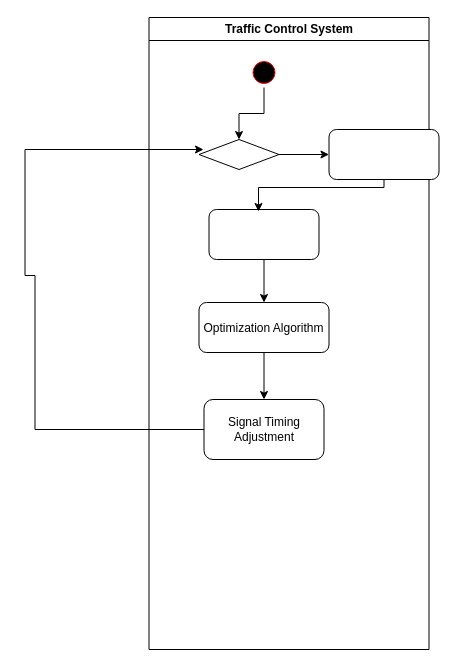
This 456x667 diagram has some shape labels left out. The shapes that lost their labels are listed below. From the top down, each one's box as (x1, y1, x2, y2) in pixels, then its label:
(328, 128, 439, 180): Data collection
(208, 208, 319, 260): Traffic Analysis
